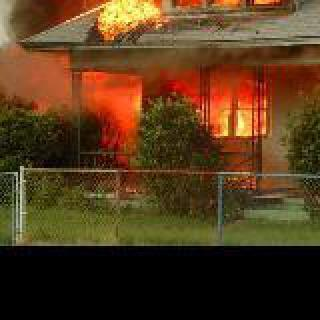fire: (74, 0, 320, 170)
